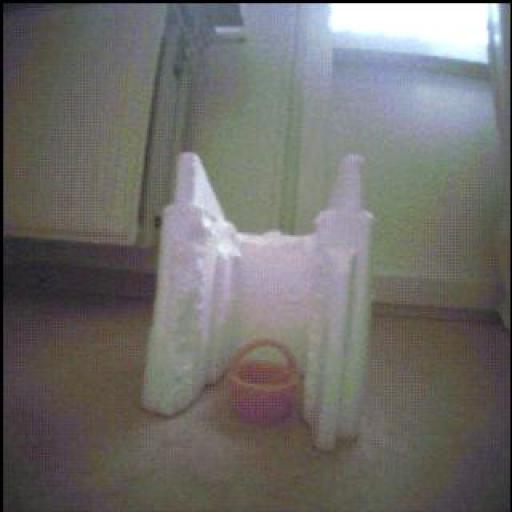Basket: (228, 340, 300, 425)
